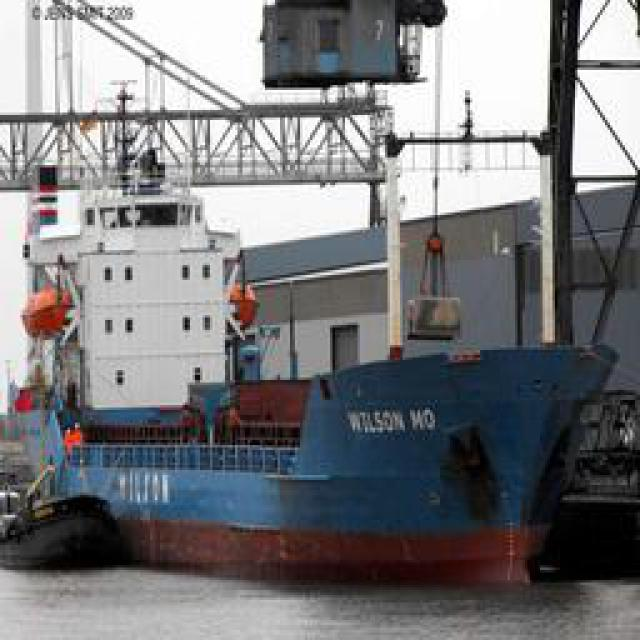Ship: (12, 202, 630, 588)
